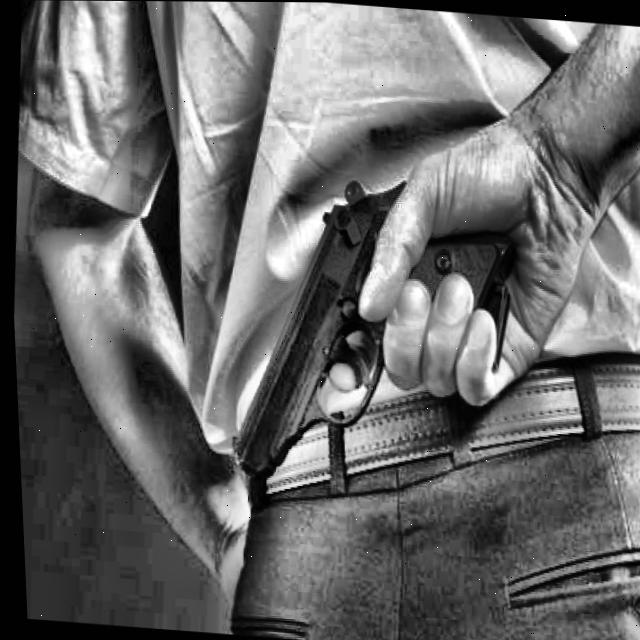pistol: (191, 148, 565, 527)
